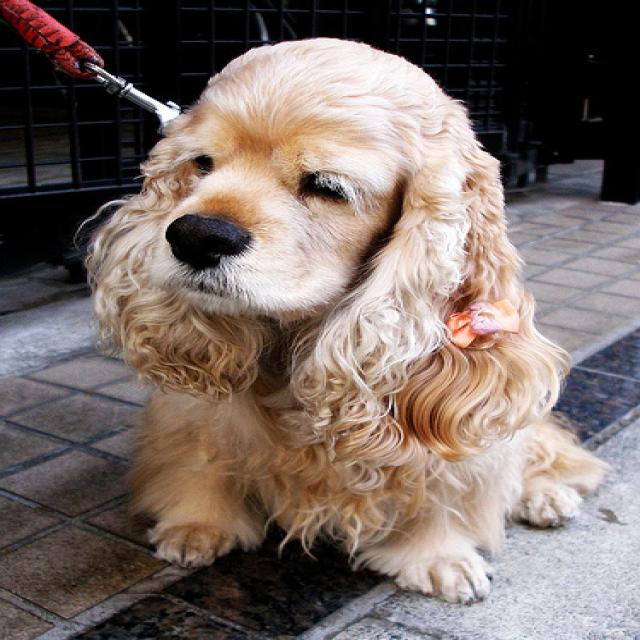dog: (92, 34, 466, 363)
